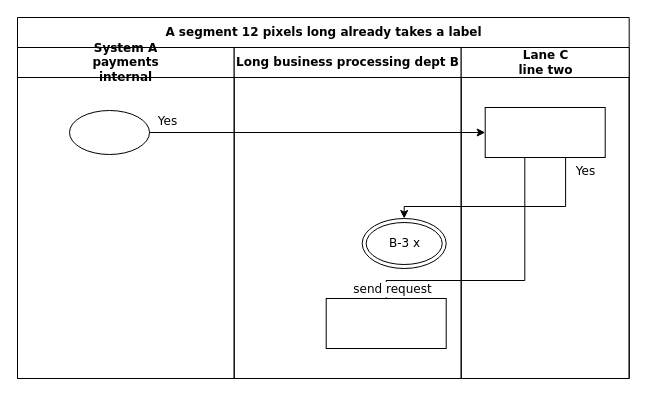
The diagram is 647 pixels wide and 396 high, and some of its shapes have lost their labels. The centre of each missing label's shape, as x and y in pixels:
"A-1 x" belongs at (109,132).
"B-4 x" belongs at (385,323).
"C-2 x" belongs at (544,132).
